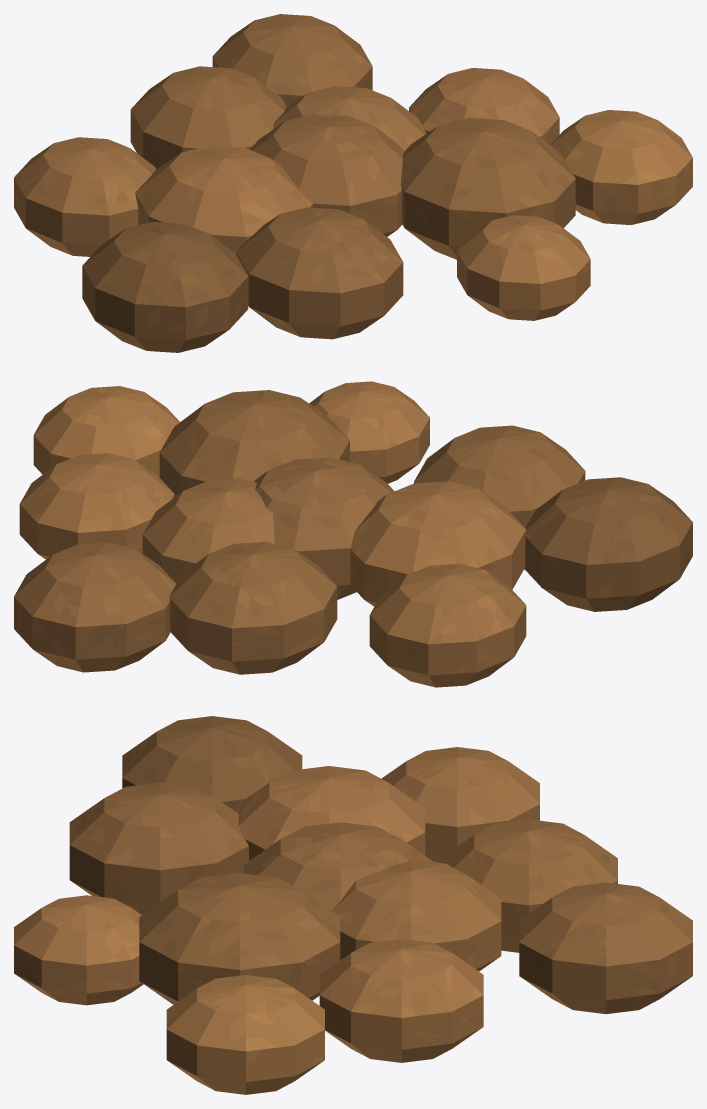
File: threshed_buckwheat.glb
The picture shows the model from 3 angles, top to bottom: view 1: azimuth 30°, elevation 25°; view 2: azimuth 150°, elevation 25°; view 3: azimuth 270°, elevation 25°; orthographic projection. The views are drawn at different scales.
Parts seen in each view (by area): view 1: block_grain 3, block_grain 10, block_grain 5, block_grain 7, block_grain 11, block_grain 2, block_grain 0, block_grain 8, block_grain 4, block_grain 9, block_grain 6, block_grain 1; view 2: block_grain 10, block_grain 4, block_grain 9, block_grain 7, block_grain 2, block_grain 3, block_grain 6, block_grain 0, block_grain 5, block_grain 11, block_grain 1, block_grain 8; view 3: block_grain 3, block_grain 9, block_grain 5, block_grain 6, block_grain 11, block_grain 1, block_grain 8, block_grain 4, block_grain 10, block_grain 2, block_grain 7, block_grain 0.
Part boxes in pixels (bbox=[...]): block_grain 3: bbox=[400, 118, 575, 259]; block_grain 10: bbox=[82, 222, 248, 352]; block_grain 5: bbox=[236, 207, 403, 339]; block_grain 7: bbox=[14, 137, 156, 256]; block_grain 11: bbox=[550, 110, 692, 224]; block_grain 2: bbox=[135, 145, 312, 254]; block_grain 0: bbox=[249, 114, 404, 236]; block_grain 8: bbox=[457, 215, 590, 320]; block_grain 4: bbox=[130, 66, 286, 169]; block_grain 9: bbox=[212, 14, 372, 106]; block_grain 6: bbox=[409, 68, 559, 144]; block_grain 1: bbox=[273, 86, 426, 150]; block_grain 10: bbox=[524, 477, 692, 611]; block_grain 4: bbox=[169, 541, 337, 674]; block_grain 9: bbox=[14, 542, 176, 672]; block_grain 7: bbox=[369, 563, 526, 687]; block_grain 2: bbox=[350, 481, 526, 606]; block_grain 3: bbox=[159, 390, 349, 496]; block_grain 6: bbox=[19, 453, 174, 559]; block_grain 0: bbox=[253, 457, 394, 599]; block_grain 5: bbox=[414, 425, 585, 527]; block_grain 11: bbox=[33, 386, 179, 477]; block_grain 1: bbox=[142, 478, 274, 583]; block_grain 8: bbox=[309, 381, 429, 483]; block_grain 3: bbox=[139, 873, 340, 1004]; block_grain 9: bbox=[519, 882, 692, 1014]; block_grain 5: bbox=[69, 782, 248, 914]; block_grain 6: bbox=[319, 938, 483, 1062]; block_grain 11: bbox=[166, 975, 324, 1094]; block_grain 1: bbox=[332, 859, 501, 971]; block_grain 8: bbox=[14, 895, 143, 1005]; block_grain 4: bbox=[440, 819, 617, 952]; block_grain 10: bbox=[122, 716, 302, 808]; block_grain 2: bbox=[232, 766, 425, 860]; block_grain 7: bbox=[381, 747, 539, 862]; block_grain 0: bbox=[243, 822, 433, 910].
Bounding box in the file's own units: 0.1198 × 0.0226 × 0.1101.
Materials: 1 (1 with a texture image).
